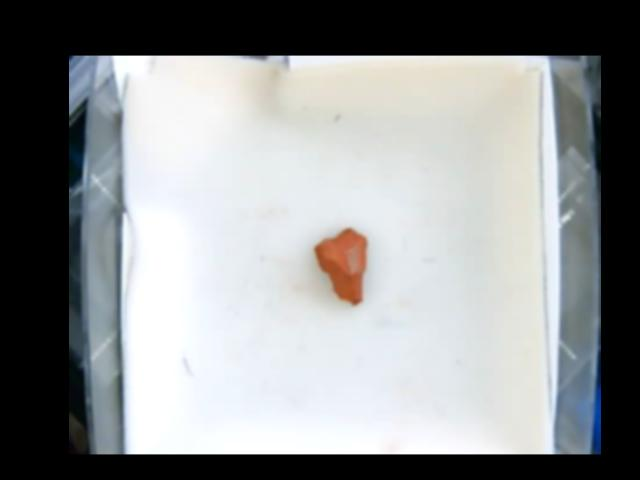Brisk: (310, 226, 367, 305)
